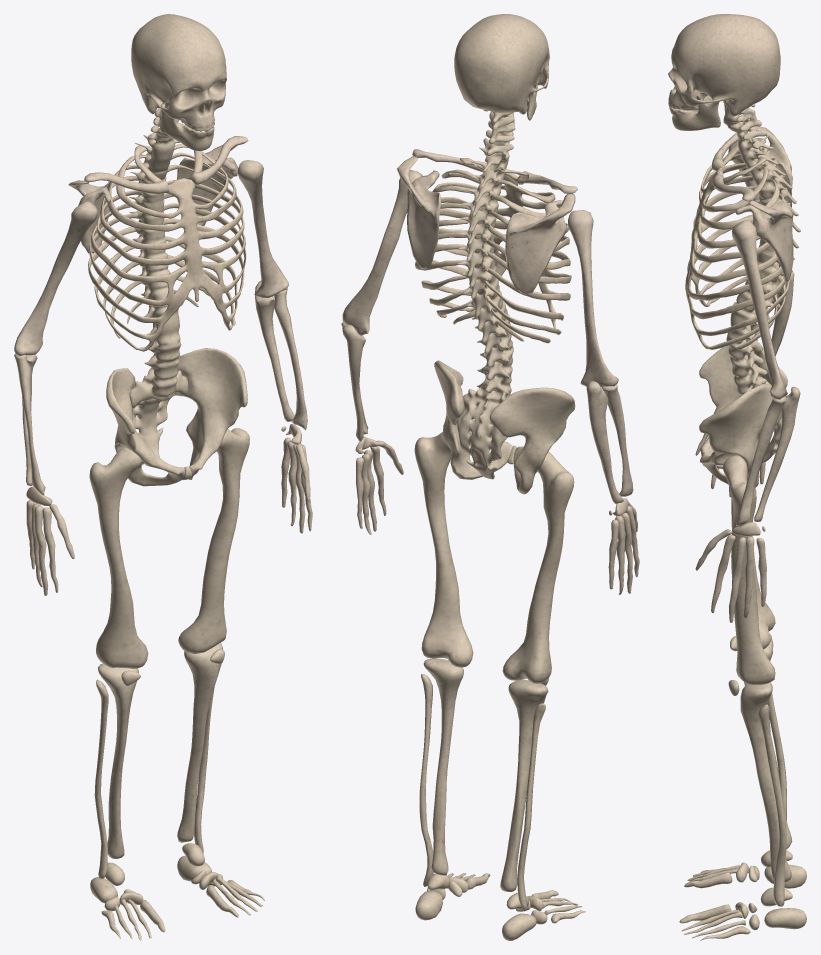
Rendered from skeleton4.gltf.
3 renders of one model, left to right at view 1: azimuth 30°, elevation 25°; view 2: azimuth 150°, elevation 25°; view 3: azimuth 270°, elevation 25°, orthographic.
Visible parts, largest first — view 1: Legs, Hands, 3, Skull, Pelvis, Spine; view 2: Legs, Hands, Spine, 3, Skull, Pelvis; view 3: Legs, Hands, Skull, 3, Spine, Pelvis.
Part boxes in pixels (x1,y1,x2,y2): Legs: [89, 428, 264, 940]; Hands: [14, 136, 312, 595]; 3: [88, 139, 246, 351]; Skull: [131, 14, 226, 151]; Pelvis: [106, 348, 247, 486]; Spine: [129, 102, 188, 457]; Legs: [414, 432, 585, 940]; Hands: [341, 149, 639, 594]; Spine: [457, 111, 515, 479]; 3: [415, 158, 571, 343]; Skull: [454, 14, 549, 120]; Pelvis: [434, 360, 575, 494]; Legs: [679, 455, 806, 940]; Hands: [695, 122, 800, 622]; Skull: [668, 14, 780, 130]; 3: [685, 137, 789, 349]; Spine: [723, 104, 800, 462]; Pelvis: [699, 342, 787, 487].
Bounding box in the file's own units: 54.75 × 169 × 23.85.
Materials: 6 (6 with a texture image).
